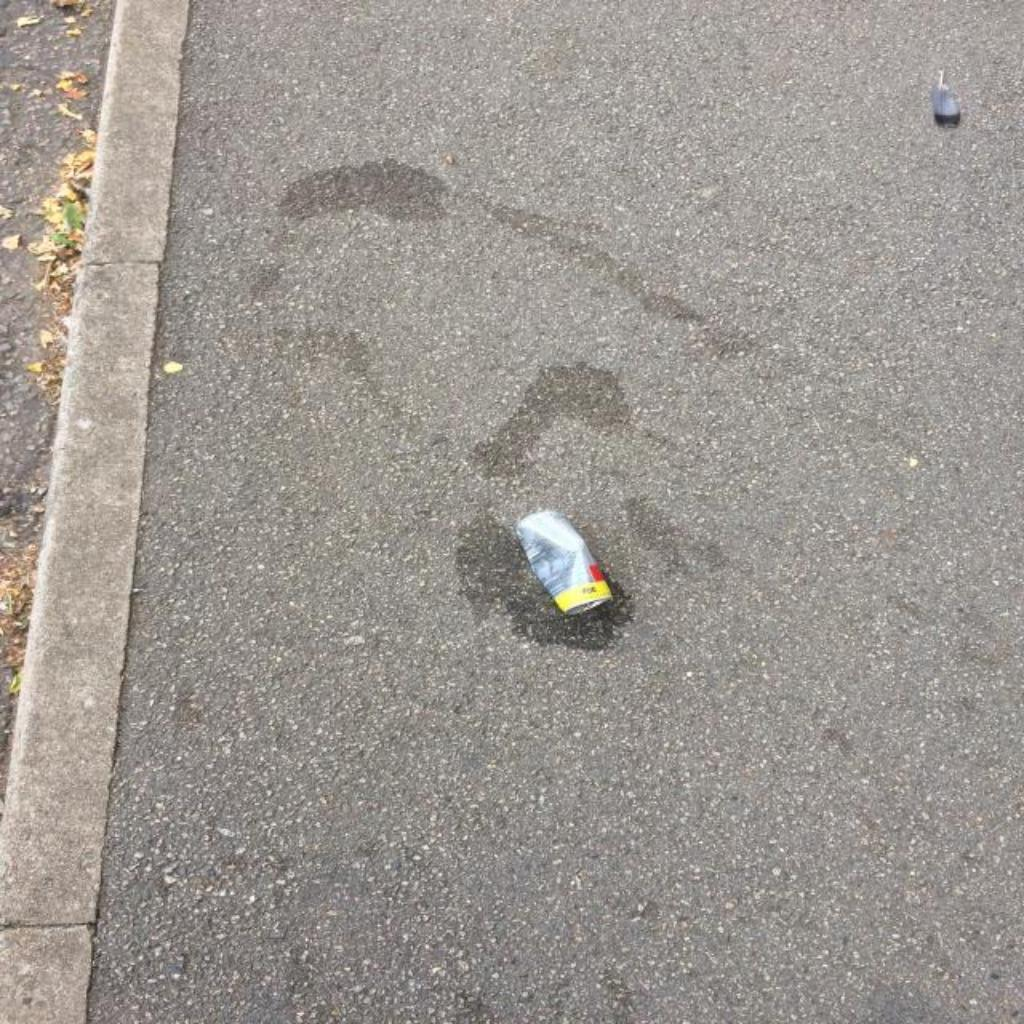garbage: (510, 507, 624, 624)
